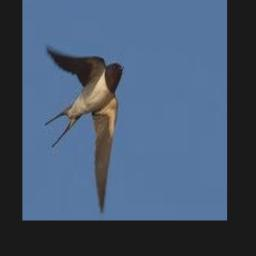Swallow: (44, 46, 123, 215)
